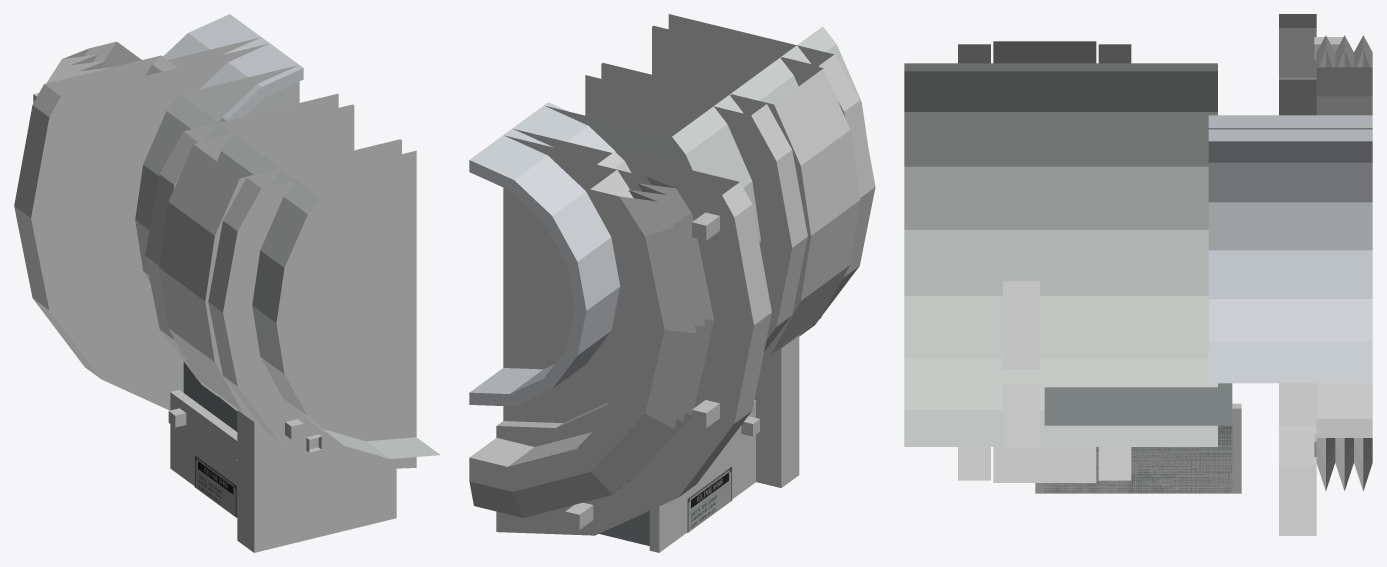
File: cell_26.obj
3 views of the same model, side by side, from view 1: azimuth 30°, elevation 25°; view 2: azimuth 150°, elevation 25°; view 3: azimuth 270°, elevation 25° (orthographic). The views are drawn at different scales.
Bounding box in the file's own units: 0.66 × 1 × 1.
